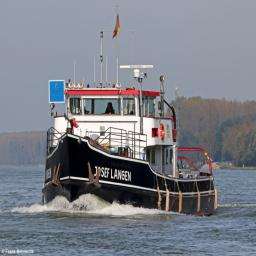tugboat: (41, 6, 221, 222)
